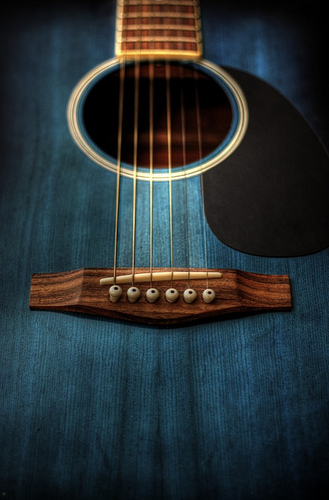guitar: (1, 1, 329, 500)
